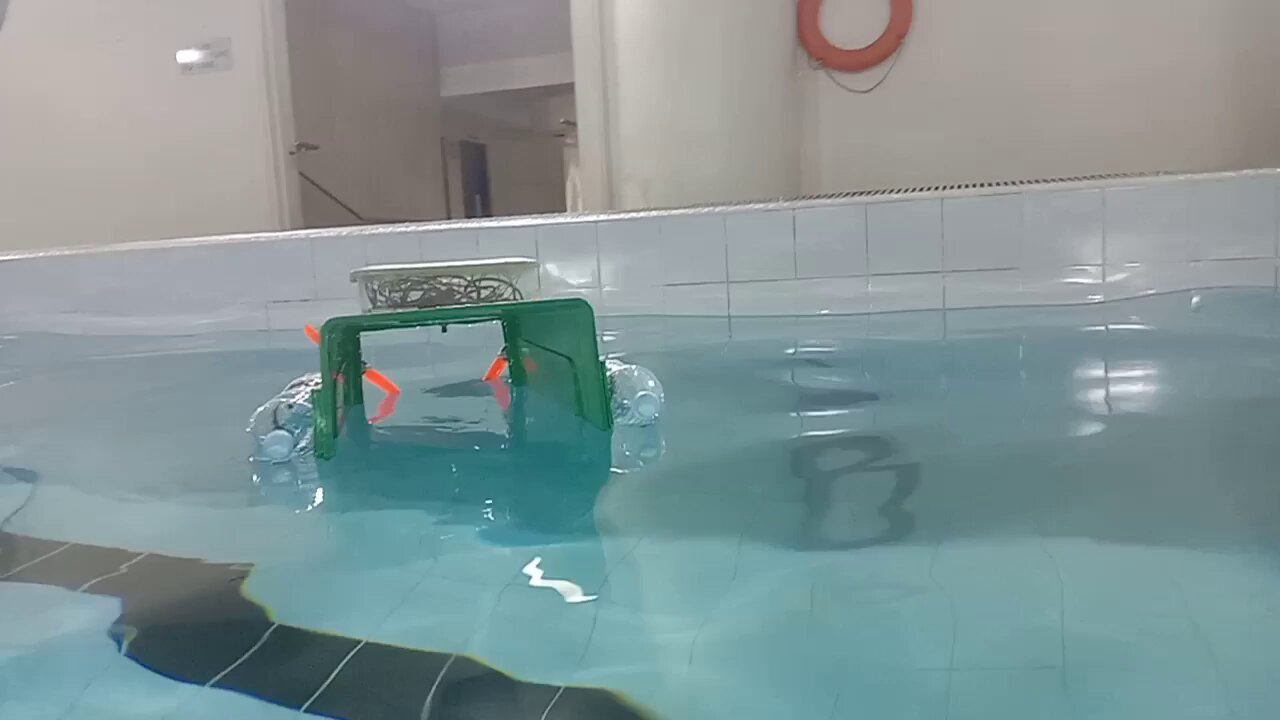drone: (240, 250, 670, 478)
